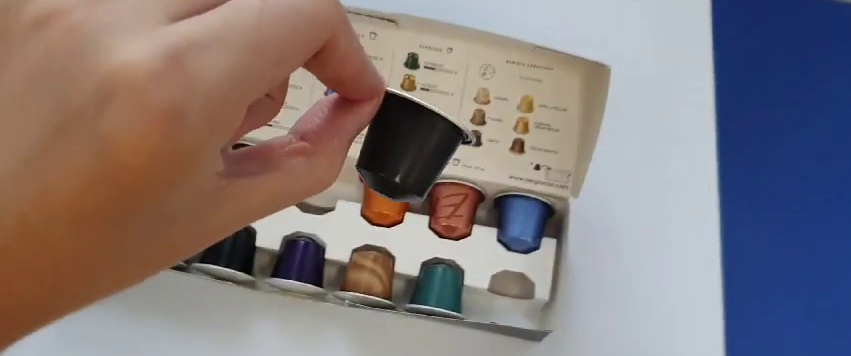capsule_4: (355, 83, 472, 204)
